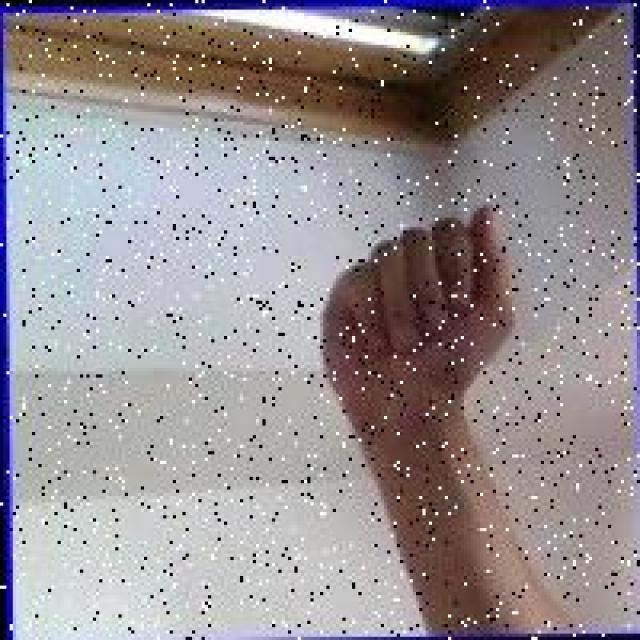A: (318, 195, 517, 448)
